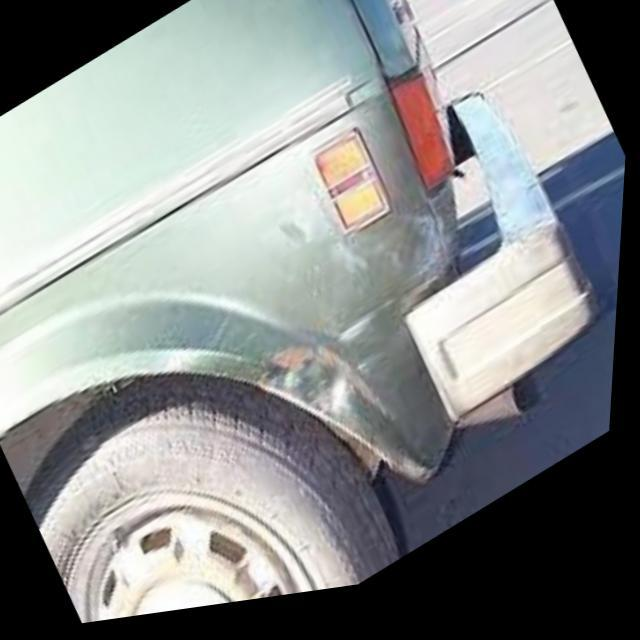rub: (205, 205, 463, 497)
